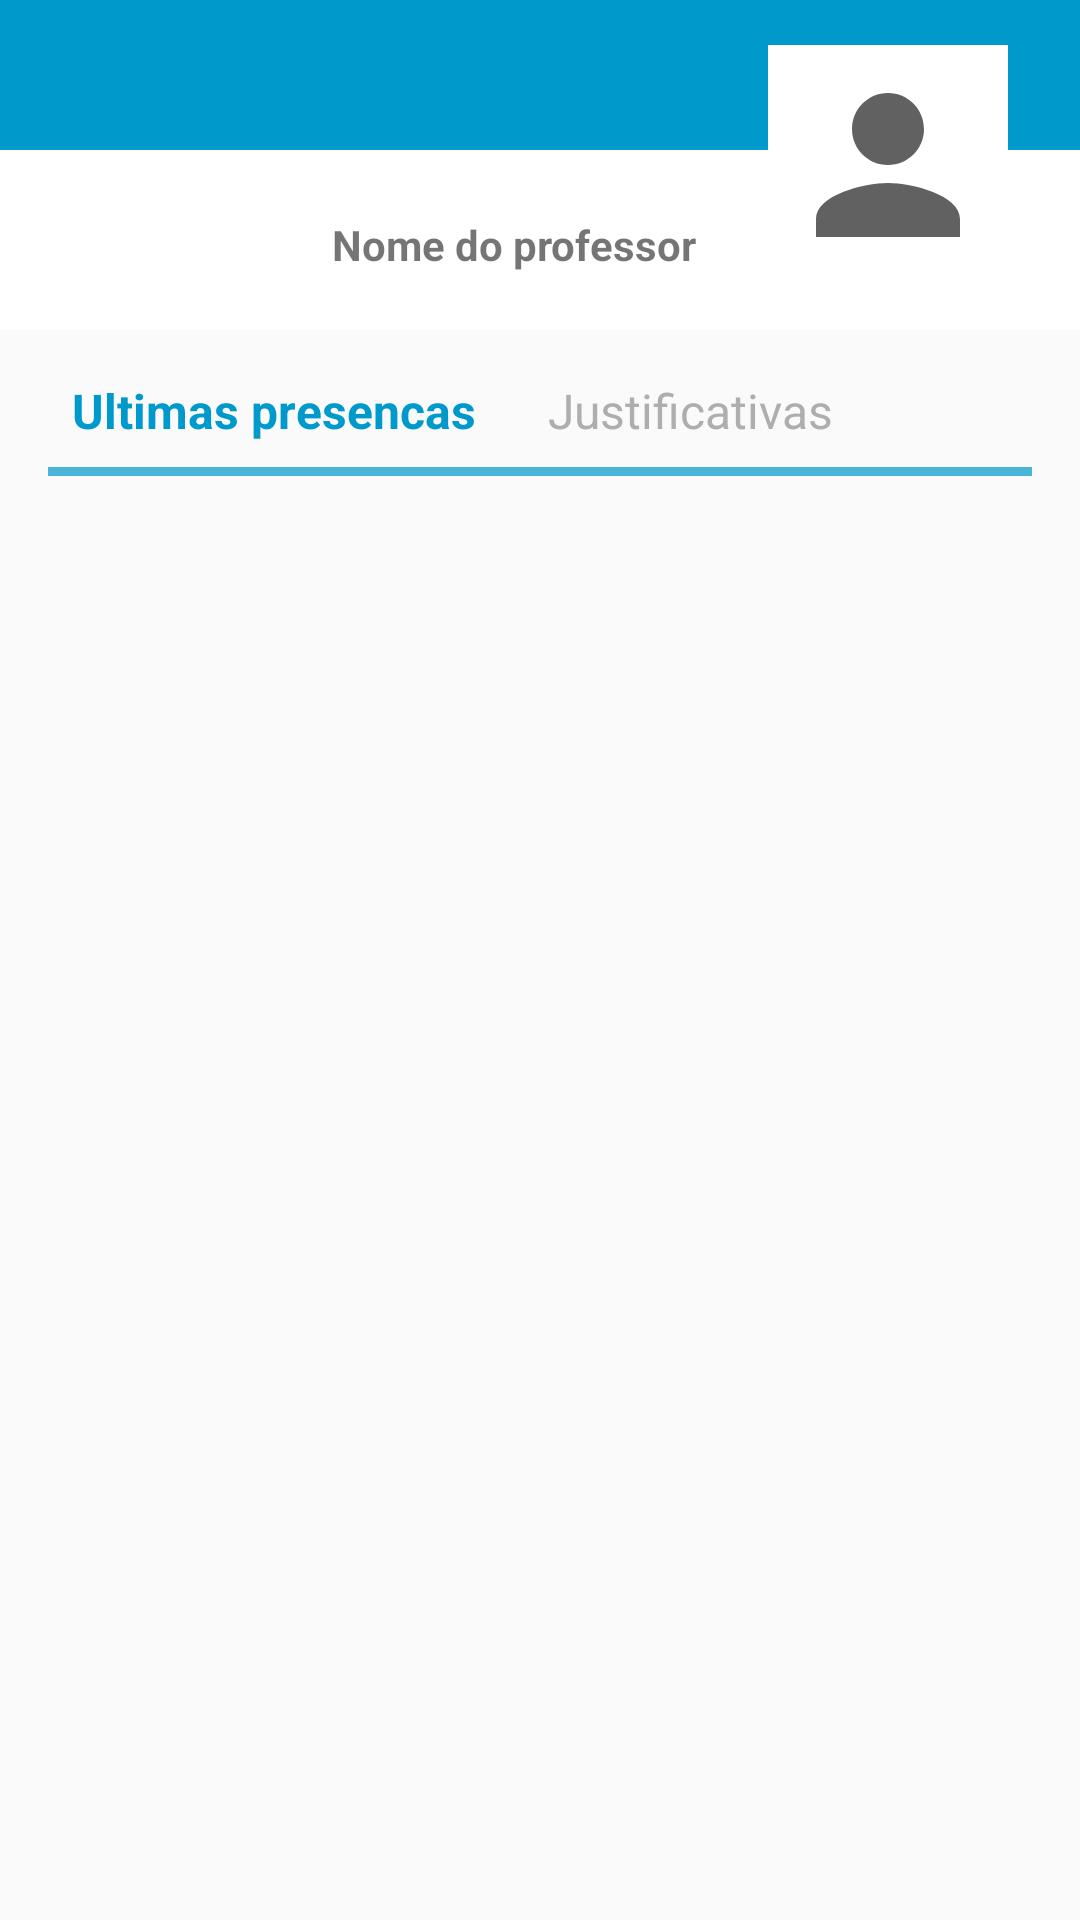

Named icons in this screenshot (1080 x 1920) and their centers, (x=x, y=y):
person pic: (x=888, y=165)
